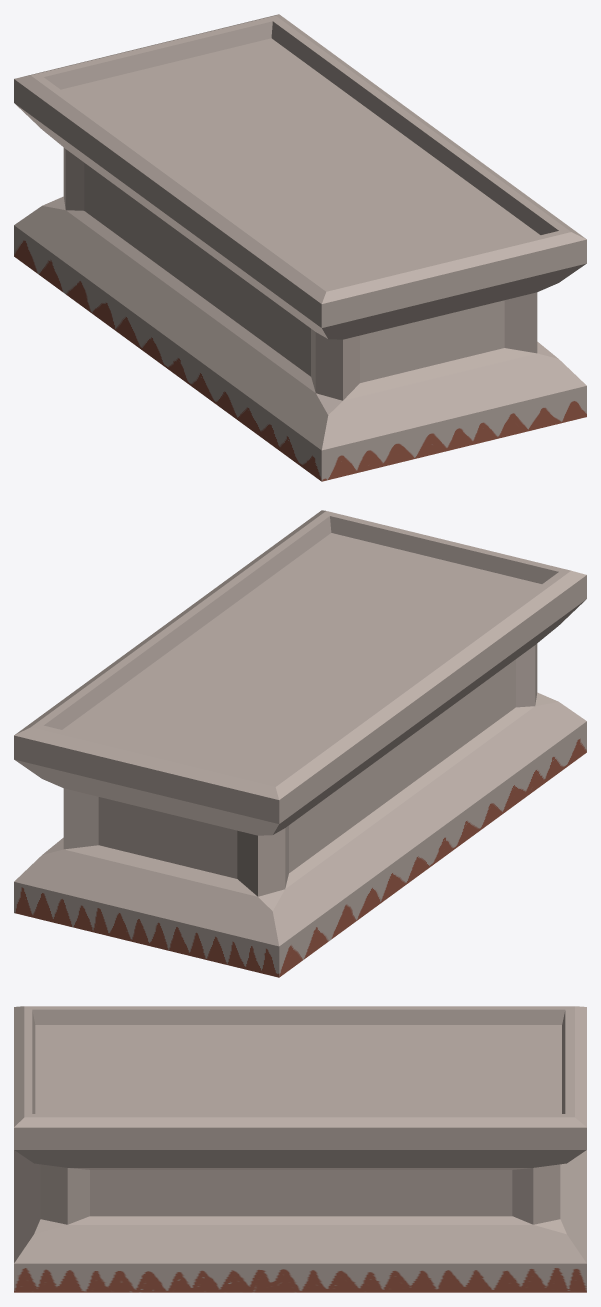
File: Centerpeice_1.fbx
The picture shows the model from 3 angles, top to bottom: view 1: azimuth 30°, elevation 25°; view 2: azimuth 150°, elevation 25°; view 3: azimuth 270°, elevation 25°; orthographic projection. The views are drawn at different scales.
Visible parts, largest first — view 1: Cube; view 2: Cube; view 3: Cube.
Boxes of the visible parts, x1,y1,x2,y2 form: Cube: (14,14,586,481); Cube: (14,510,586,977); Cube: (14,1006,586,1292).
Size of the model in its own units: 303 by 200 by 608.
